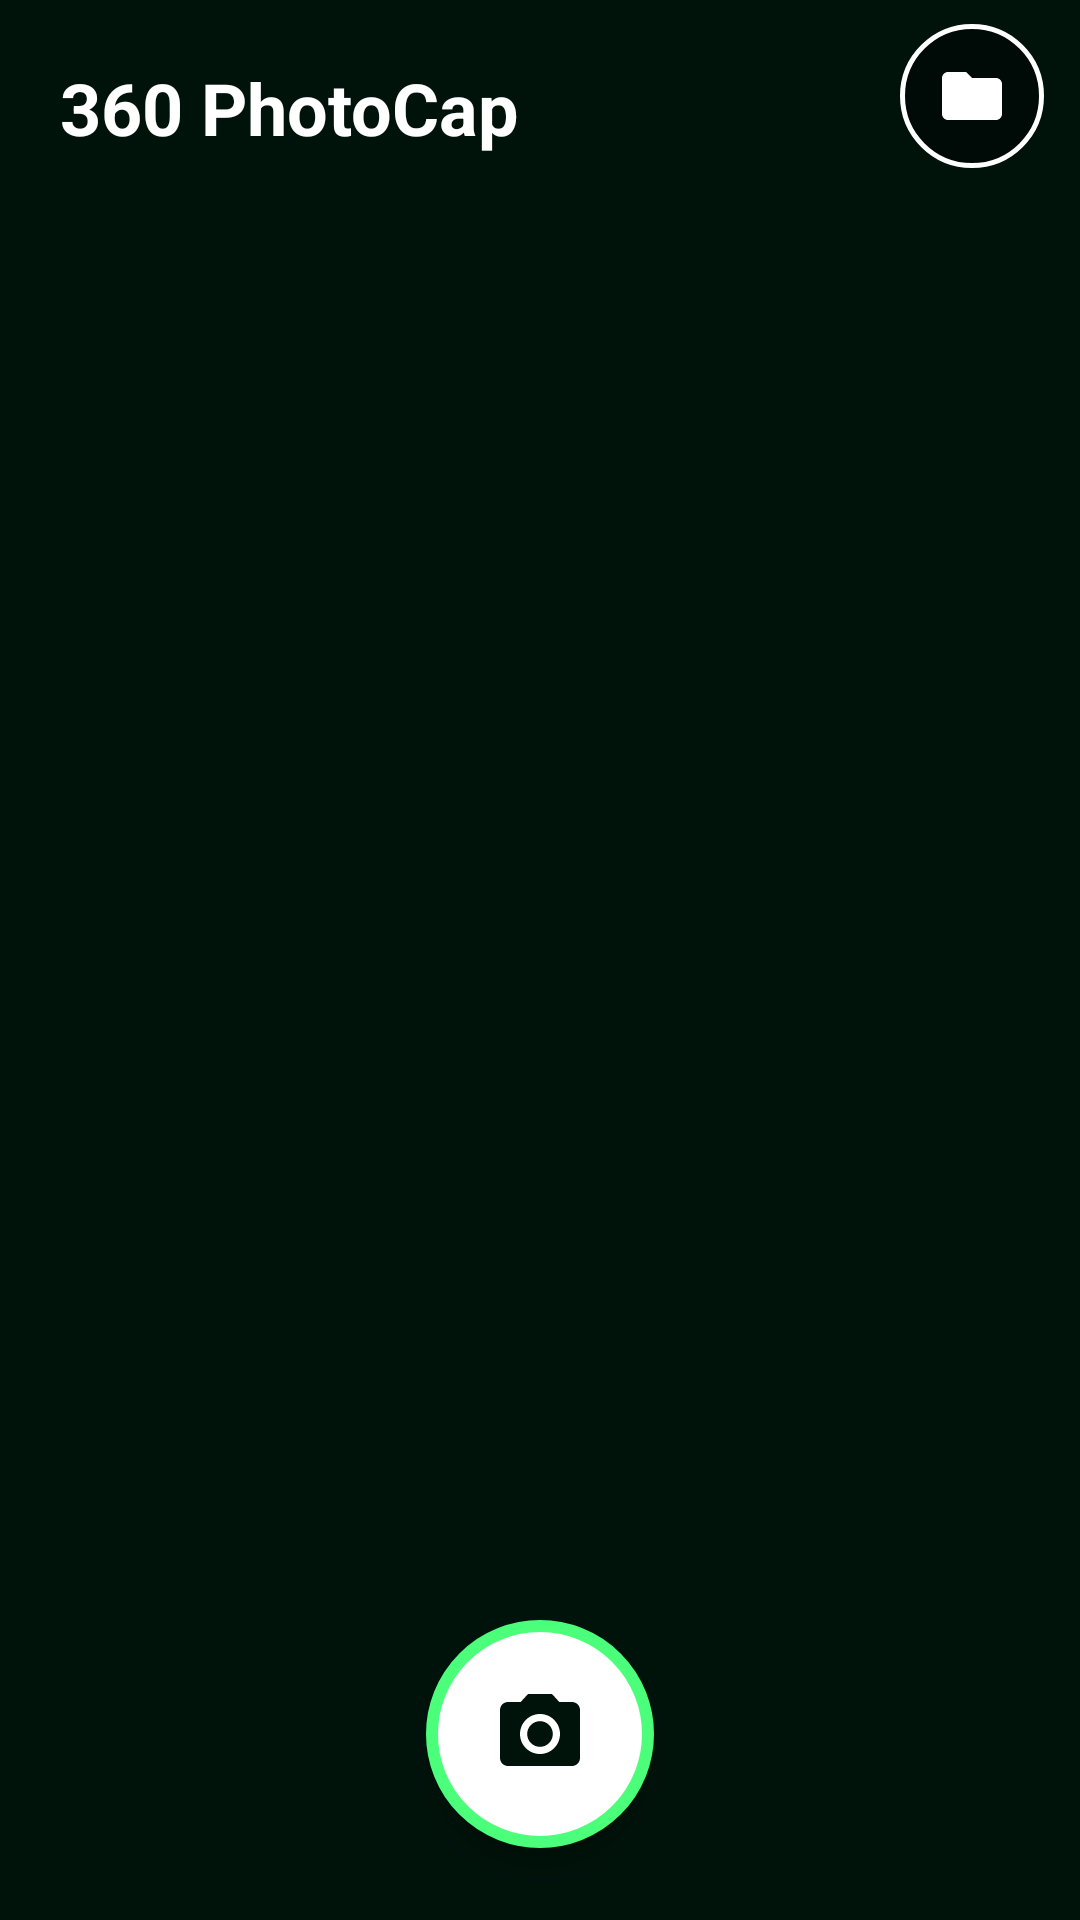

Screen size 1080px x 1920px. Icon name, then its box in pixels as (x1=x1, y1=y1, x2=x2, y2=y2):
ถ่ายภาพ 360°: (x1=426, y1=1620, x2=654, y2=1848)
เลือกโฟลเดอร์: (x1=900, y1=24, x2=1044, y2=168)
